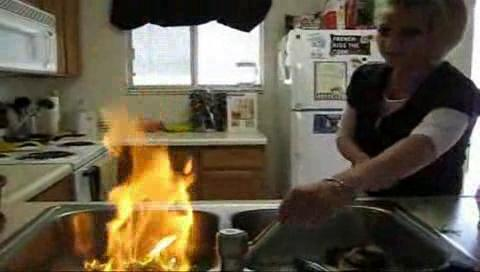fire: (99, 106, 194, 271)
